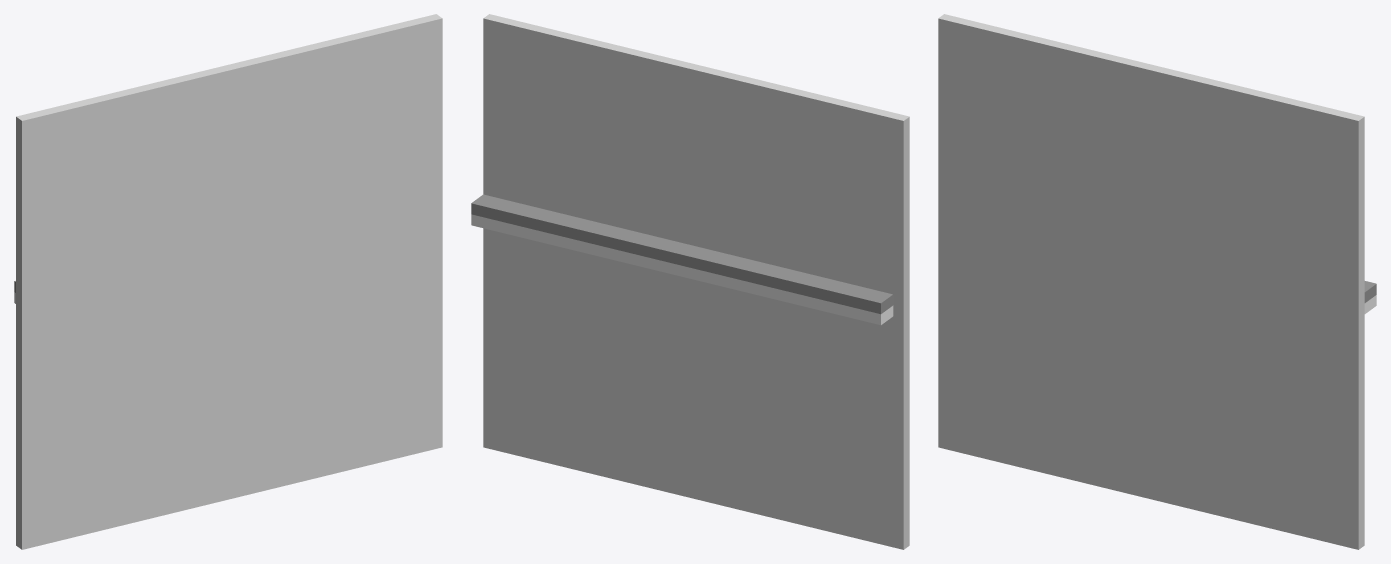
The model's file is wall_light_wf.obj.
3 views of the same model, side by side, from view 1: azimuth 30°, elevation 25°; view 2: azimuth 150°, elevation 25°; view 3: azimuth 330°, elevation 25° (orthographic).
Bounding box in the file's own units: 4 × 3.9 × 0.3.
Materials: 1 (1 with a texture image).
